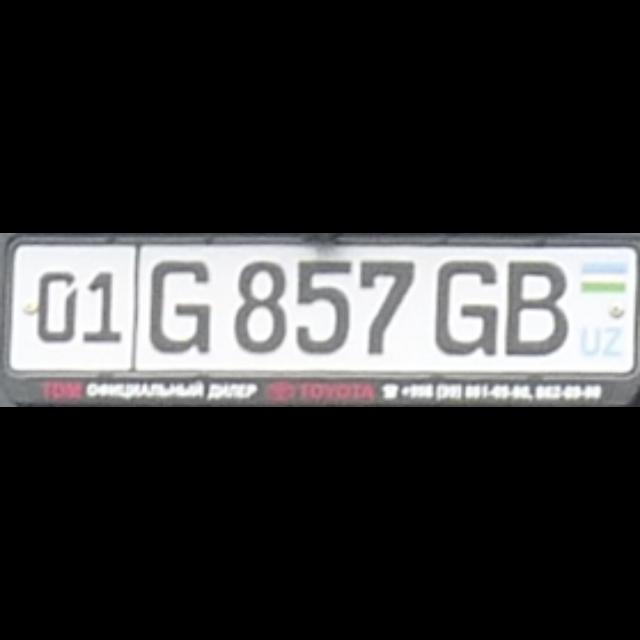0: (32, 267, 72, 345)
1: (78, 265, 120, 341)
5: (290, 258, 346, 352)
7: (358, 258, 418, 350)
8: (228, 260, 282, 350)
B: (502, 260, 570, 350)
G: (427, 256, 505, 350), (146, 260, 218, 350)
